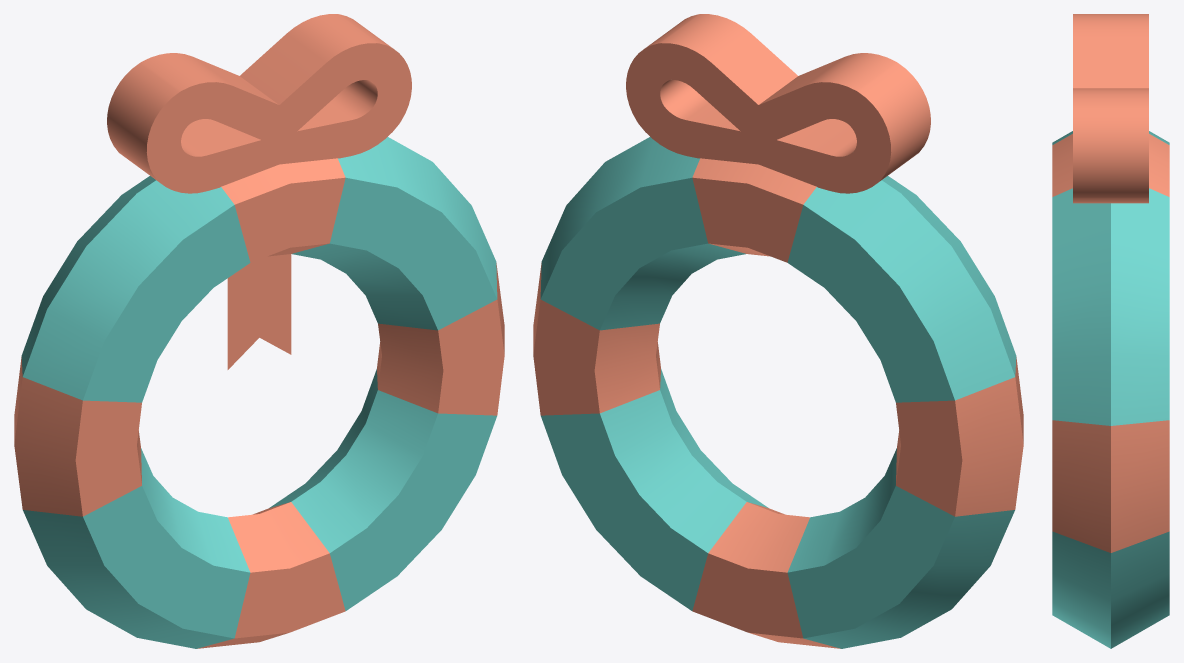
File: wreath.glb
3 renders of one model, left to right at view 1: azimuth 30°, elevation 25°; view 2: azimuth 150°, elevation 25°; view 3: azimuth 270°, elevation 25°, orthographic. The views are drawn at different scales.
Parts seen in each view (by area): view 1: wreath(Clone), tie; view 2: wreath(Clone), tie; view 3: wreath(Clone), tie.
Boxes of the visible parts, x1,y1,x2,y2 form: wreath(Clone): (14, 137, 504, 648); tie: (107, 14, 411, 193); wreath(Clone): (533, 137, 1023, 648); tie: (626, 14, 930, 193); wreath(Clone): (1052, 131, 1169, 648); tie: (1073, 14, 1148, 203).
Size of the model in its own units: 0.5544 by 0.6402 by 0.12.
